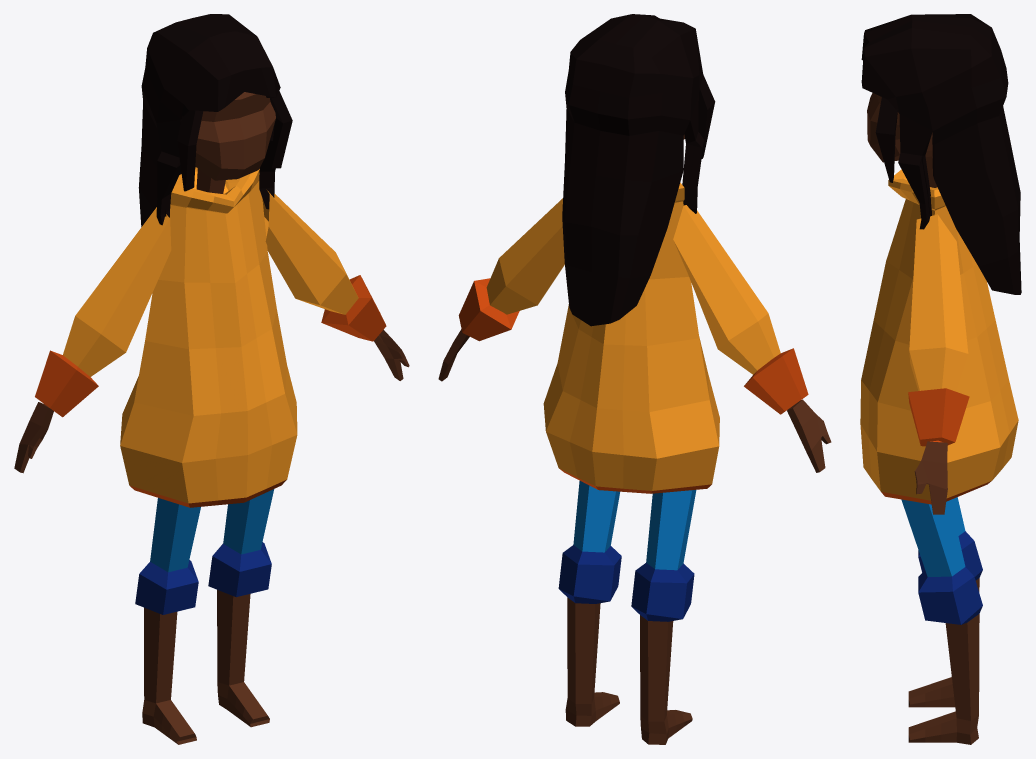
File: guurl.obj
3 views of the same model, side by side, from view 1: azimuth 30°, elevation 25°; view 2: azimuth 150°, elevation 25°; view 3: azimuth 270°, elevation 25° (orthographic).
Parts seen in each view (by area): view 1: Cube, Cylinder.002, Cylinder.001, Cube.002, Cube.001; view 2: Cube.002, Cube, Cylinder.001, Cylinder.002; view 3: Cube.002, Cube, Cylinder.002, Cylinder.001, Cube.001.
Part boxes in pixels (x1,y1,x2,y2): Cube: (120, 167, 297, 507); Cylinder.002: (14, 190, 409, 473); Cylinder.001: (135, 489, 274, 744); Cube.002: (138, 14, 292, 226); Cube.001: (195, 92, 275, 180); Cube.002: (562, 14, 715, 326); Cube: (543, 183, 719, 493); Cylinder.001: (558, 481, 696, 744); Cylinder.002: (438, 198, 831, 472); Cube.002: (861, 14, 1021, 294); Cube: (860, 169, 1018, 504); Cylinder.002: (908, 214, 969, 514); Cylinder.001: (901, 497, 982, 744); Cube.001: (867, 93, 932, 162).
Size of the model in its own units: 2.13 by 3.71 by 0.7732.
